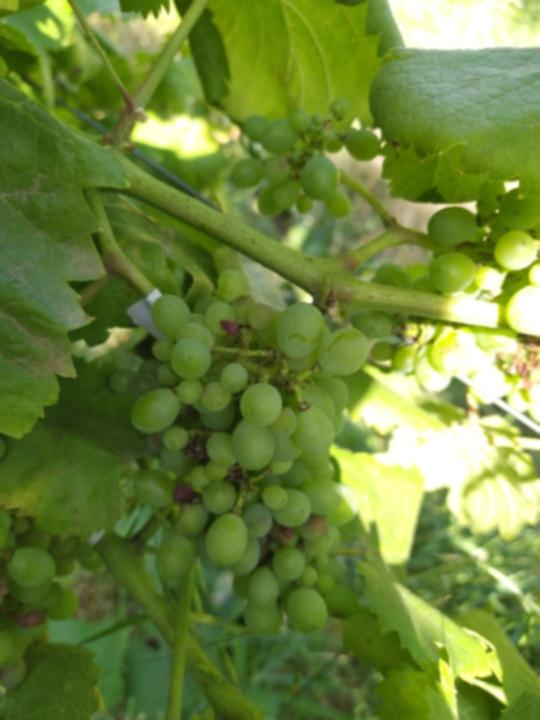grape: (104, 265, 402, 668), (231, 97, 384, 224)
